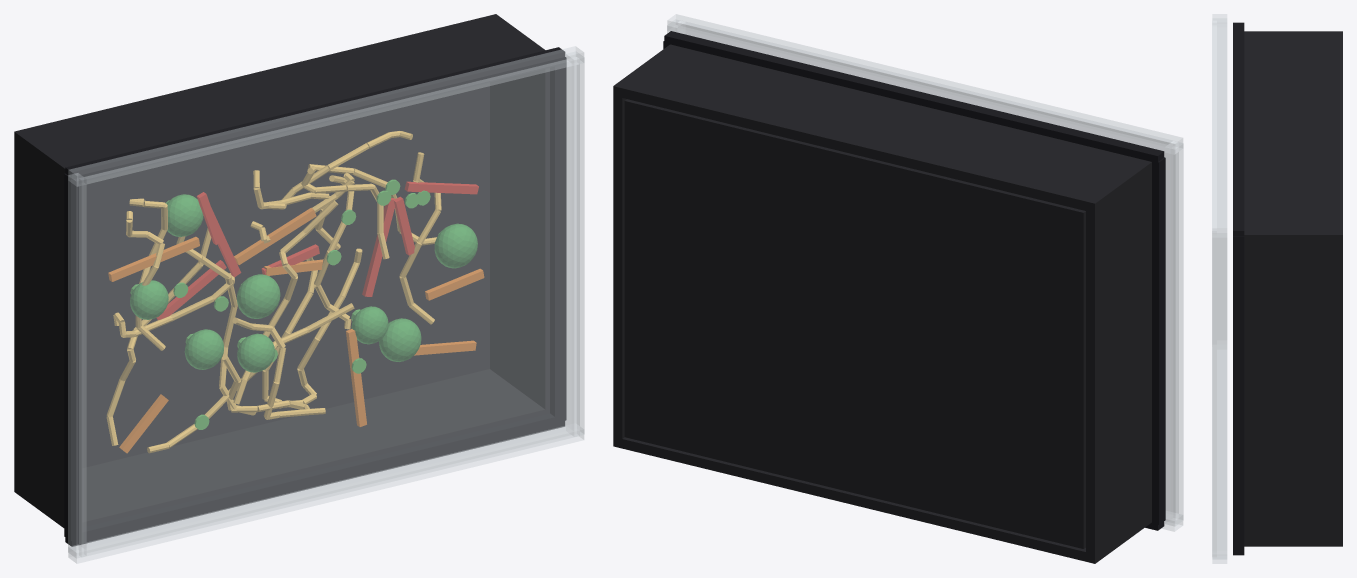
File: black_food_container_with_transparent_lid.glb
The picture shows the model from 3 angles, left to right: view 1: azimuth 30°, elevation 25°; view 2: azimuth 150°, elevation 25°; view 3: azimuth 270°, elevation 25°; orthographic projection. The views are drawn at different scales.
Parts seen in each view (by area): view 1: lid_top, tray_floor, tray_wall_front, tray_wall_back, tray_wall_right, tray_wall_left, lid_back, lid_front, tray_rim_back, tray_rim_front, lid_left, lid_right (+17 smaller); view 2: tray_floor, tray_wall_back, tray_wall_left, lid_top, lid_back, tray_rim_back, lid_left, tray_wall_front, tray_rim_left, tray_wall_right; view 3: tray_wall_right, tray_wall_back, lid_right, tray_rim_right, lid_back, lid_left, lid_top, tray_rim_back, lid_front, tray_wall_front.
Boxes of the visible parts, <box> form: lid_top: <box>79,57,579,557</box>; tray_floor: <box>82,82,489,467</box>; tray_wall_front: <box>14,369,549,527</box>; tray_wall_back: <box>14,14,545,177</box>; tray_wall_right: <box>490,68,549,409</box>; tray_wall_left: <box>14,141,64,518</box>; lid_back: <box>68,46,583,186</box>; lid_front: <box>68,426,583,563</box>; tray_rim_back: <box>65,47,565,183</box>; tray_rim_front: <box>65,413,565,546</box>; lid_left: <box>68,173,86,558</box>; lid_right: <box>566,52,584,436</box>; tray_floor: <box>624,99,1085,548</box>; tray_wall_back: <box>613,44,1151,213</box>; tray_wall_left: <box>1086,172,1151,554</box>; lid_top: <box>678,21,1178,519</box>; lid_back: <box>667,14,1182,154</box>; tray_rim_back: <box>664,31,1164,167</box>; lid_left: <box>1165,141,1183,526</box>; tray_wall_front: <box>613,437,1151,563</box>; tray_rim_left: <box>1147,157,1165,524</box>; tray_wall_right: <box>613,96,626,438</box>; tray_wall_right: <box>1244,243,1342,538</box>; tray_wall_back: <box>1244,31,1342,243</box>; lid_right: <box>1212,229,1226,559</box>; tray_rim_right: <box>1233,236,1244,550</box>; lid_back: <box>1212,14,1226,237</box>; lid_left: <box>1212,18,1226,340</box>; lid_top: <box>1212,21,1216,556</box>; tray_rim_back: <box>1233,22,1244,236</box>; lid_front: <box>1212,349,1226,563</box>; tray_wall_front: <box>1244,538,1342,546</box>.
Bounding box in the file's own units: 222 × 162 × 57.1.
